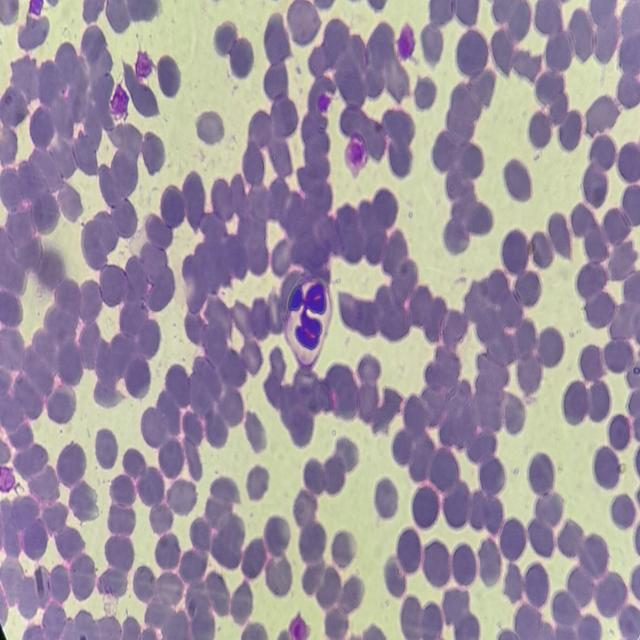Neutrofilo: (286, 276, 333, 368)
